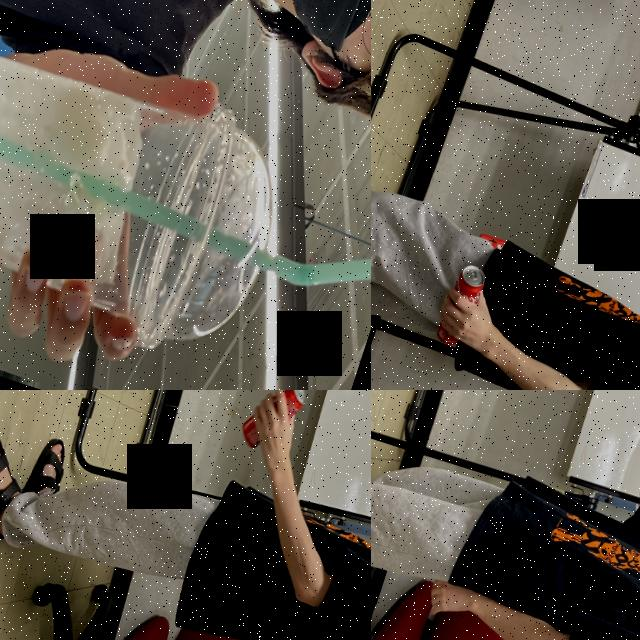can: (234, 390, 313, 461), (431, 260, 488, 350)
cup: (0, 19, 303, 374)
